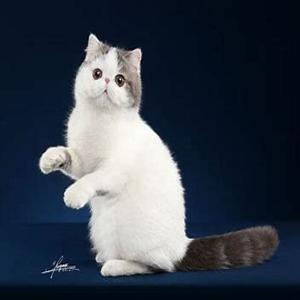cat: (70, 50, 142, 111)
